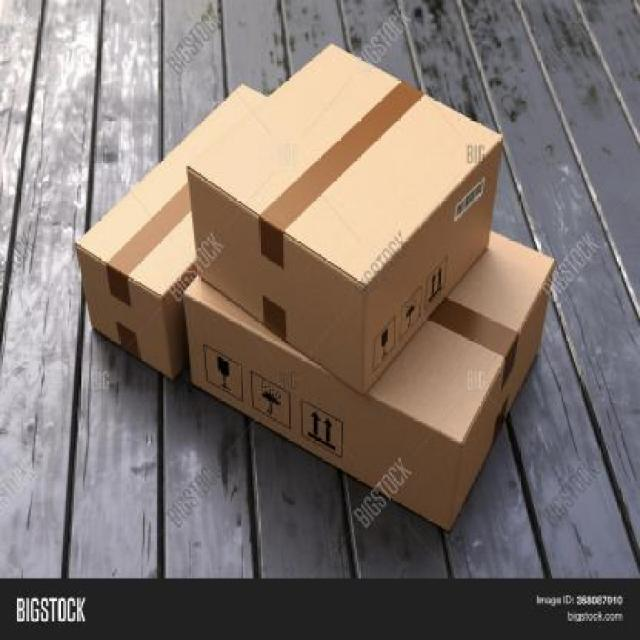box: (182, 232, 558, 534), (185, 41, 503, 394), (77, 84, 269, 382)
